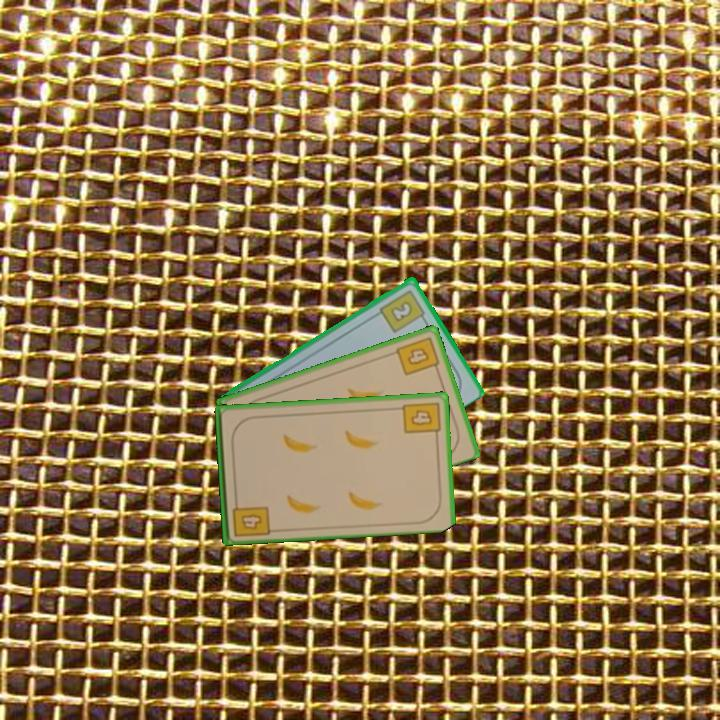2b: (376, 286, 429, 335)
4b: (393, 333, 442, 378), (229, 494, 272, 539), (399, 398, 443, 441)
